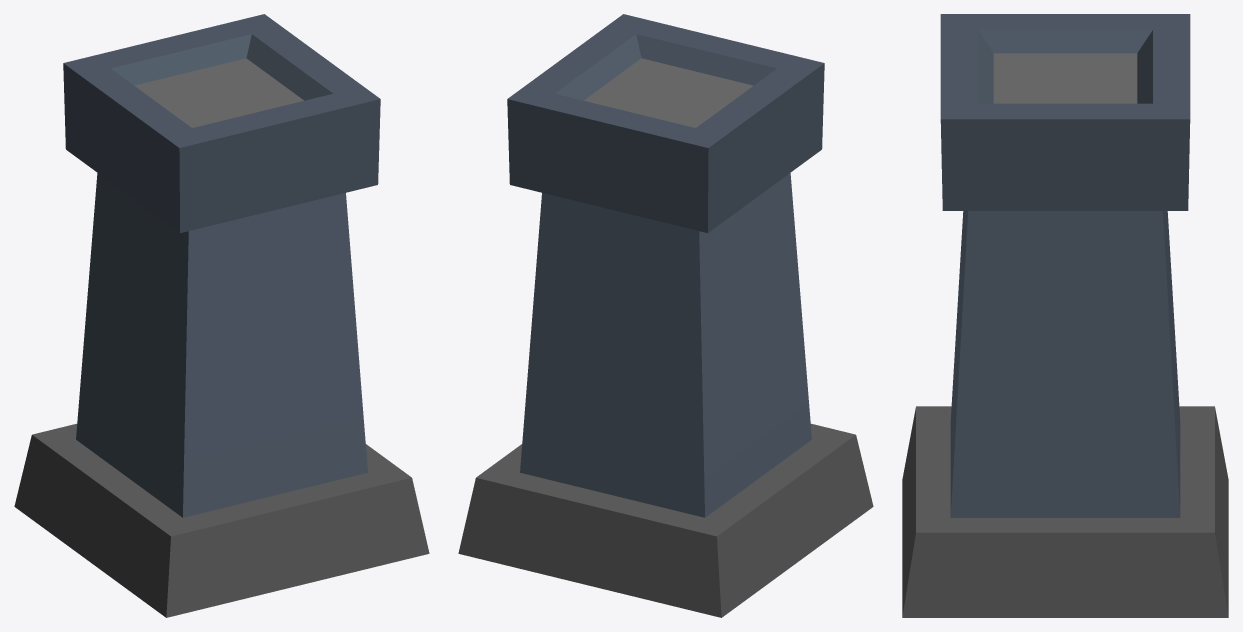
File: Chimney_3_C_1.fbx
3 views of the same model, side by side, from view 1: azimuth 30°, elevation 25°; view 2: azimuth 150°, elevation 25°; view 3: azimuth 270°, elevation 25° (orthographic). The views are drawn at different scales.
Visible parts, largest first — view 1: Chimney_3_C_1; view 2: Chimney_3_C_1; view 3: Chimney_3_C_1.
Part boxes in pixels (x1,y1,x2,y2): Chimney_3_C_1: (14, 14, 429, 617); Chimney_3_C_1: (458, 14, 873, 617); Chimney_3_C_1: (902, 14, 1228, 617).
Size of the model in its own units: 63.94 by 104 by 63.94.
